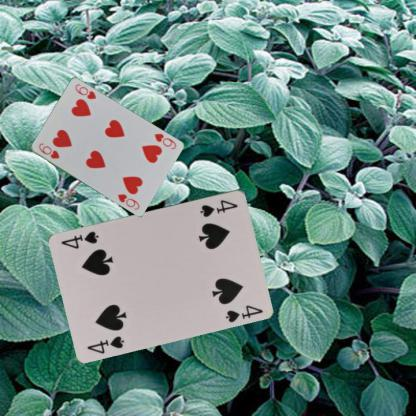4s: (84, 333, 126, 355), (198, 196, 239, 218)
6h: (152, 130, 178, 151), (36, 140, 61, 160)
